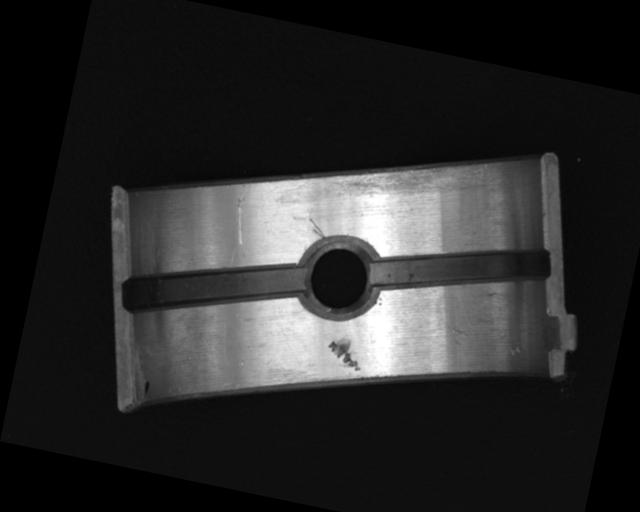blot: (141, 378, 152, 398)
bruise: (324, 332, 368, 372), (444, 323, 468, 338), (508, 344, 524, 358)
gap: (123, 231, 306, 343), (368, 217, 553, 315)
hole: (293, 229, 386, 322)
nick: (229, 180, 256, 246), (306, 217, 329, 238)
scratch: (326, 131, 494, 224)
